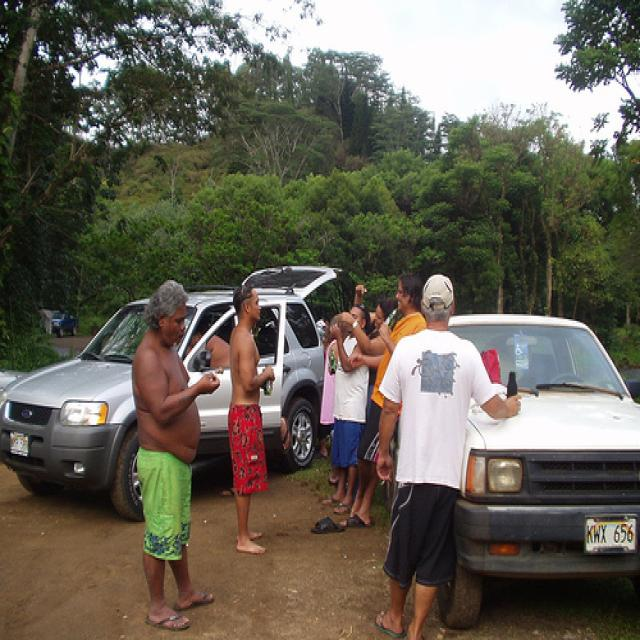light_vehicle: (0, 261, 342, 521), (436, 310, 638, 630)
